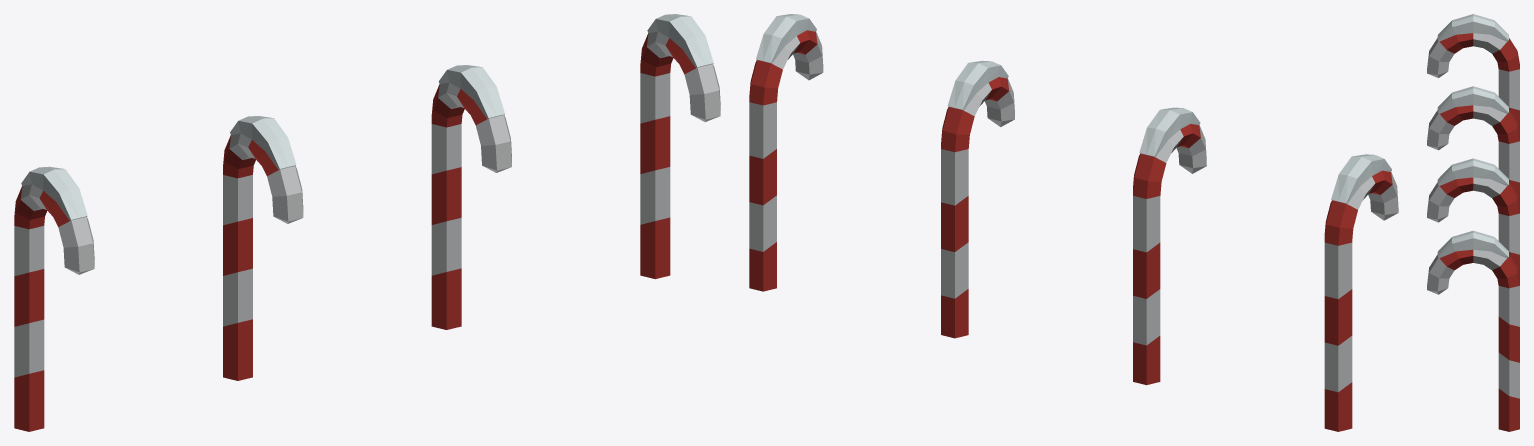
The model's file is candy-cane-path-markers-2310e4.glb.
3 views of the same model, side by side, from view 1: azimuth 30°, elevation 25°; view 2: azimuth 150°, elevation 25°; view 3: azimuth 270°, elevation 25° (orthographic). The views are drawn at different scales.
Parts seen in each view (by area): view 1: candy-canes; view 2: candy-canes; view 3: candy-canes.
Boxes of the visible parts, x1=… form: candy-canes: x1=14, y1=14, x2=720, y2=431; candy-canes: x1=749, y1=14, x2=1398, y2=431; candy-canes: x1=1427, y1=14, x2=1519, y2=431.
Bounding box in the file's own units: 1.57 × 0.6266 × 0.2716.
